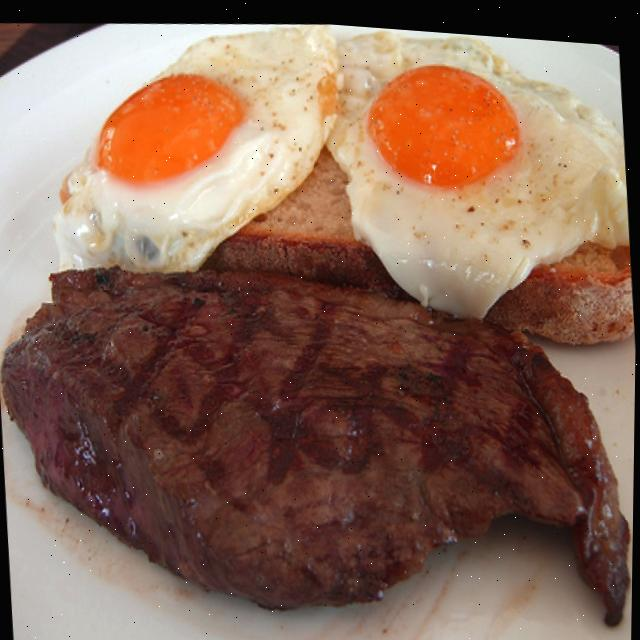牛肉菜式: (0, 290, 637, 640)
鸡蛋料理: (46, 22, 633, 291)
